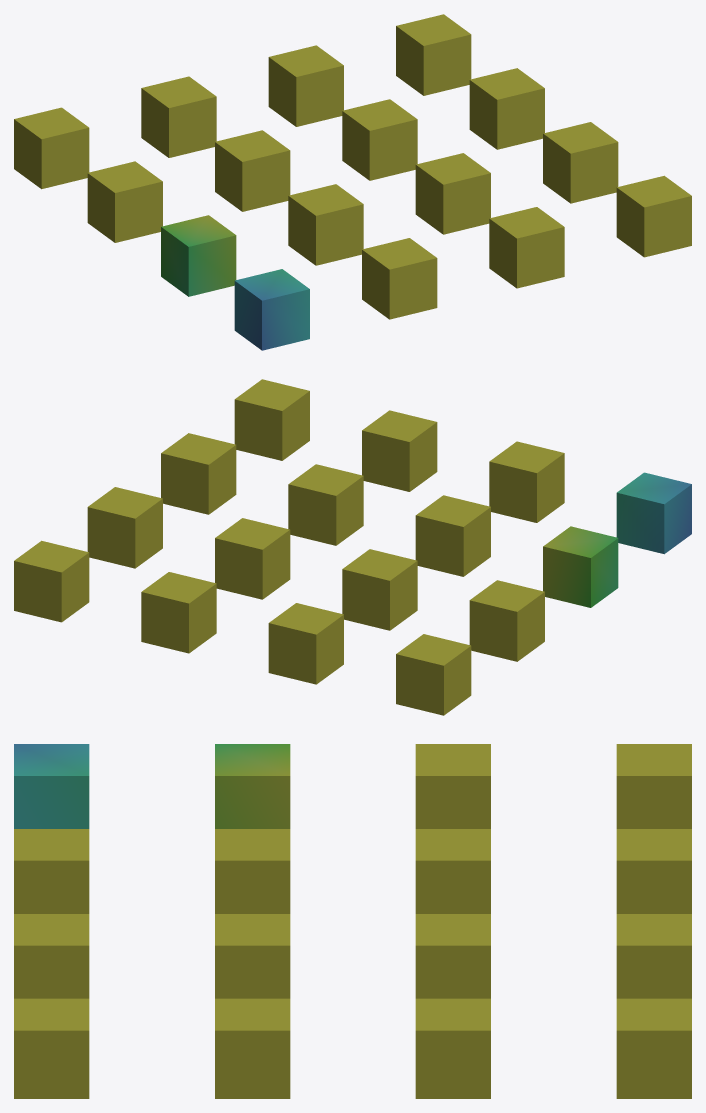
The model's file is cubes.glb.
3 views of the same model, one above another, from view 1: azimuth 30°, elevation 25°; view 2: azimuth 150°, elevation 25°; view 3: azimuth 270°, elevation 25° (orthographic). The views are drawn at different scales.
Parts seen in each view (by area): view 1: Cube; view 2: Cube; view 3: Cube.
Part boxes in pixels (bbox=[...]): Cube: bbox=[14, 14, 691, 350]; Cube: bbox=[14, 379, 691, 715]; Cube: bbox=[14, 744, 691, 1098].
Size of the model in its own units: 18 by 2 by 18.
